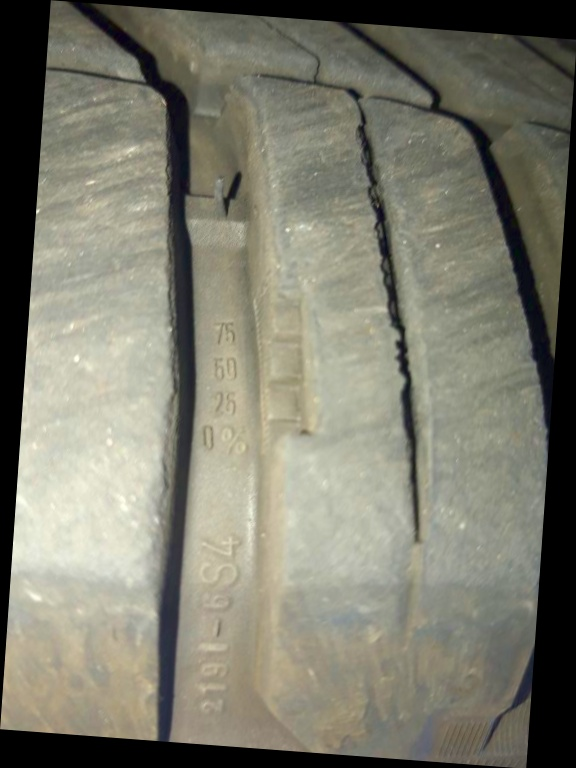temoin:90: (236, 254, 331, 466)
